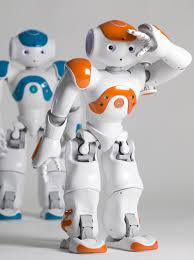nao: (32, 16, 191, 247), (1, 22, 80, 219)
